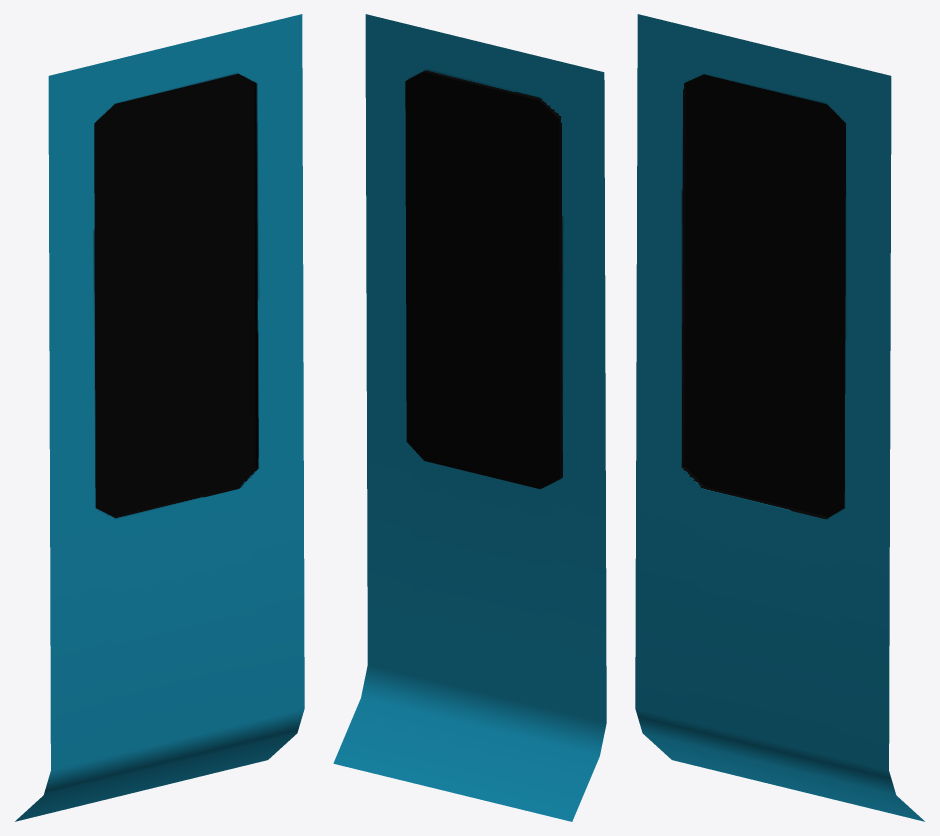
Rendered from TrainDoorRight.fbx.
3 renders of one model, left to right at view 1: azimuth 30°, elevation 25°; view 2: azimuth 150°, elevation 25°; view 3: azimuth 330°, elevation 25°, orthographic. The views are drawn at different scales.
Visible parts, largest first — view 1: TrainDoorRight; view 2: TrainDoorRight; view 3: TrainDoorRight.
Part boxes in pixels (x1,y1,x2,y2): TrainDoorRight: (15,14,304,821); TrainDoorRight: (333,14,606,821); TrainDoorRight: (635,14,924,821).
Size of the model in its own units: 86.77 by 252 by 21.68.
